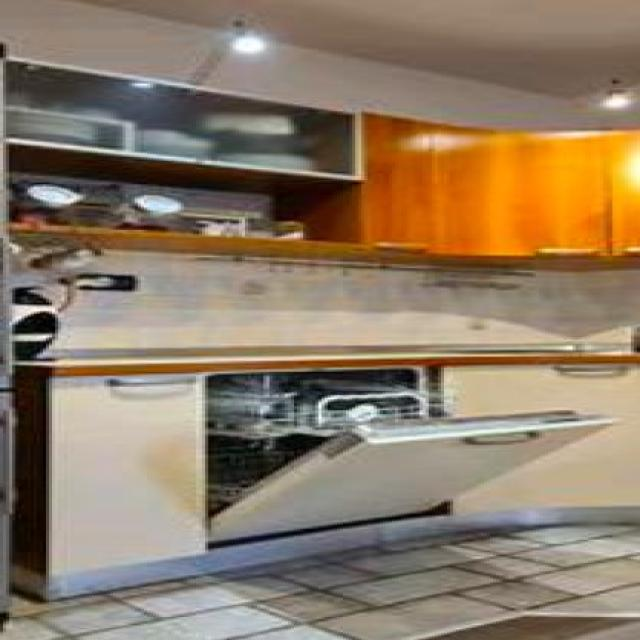dishwasher: (199, 363, 609, 544)
